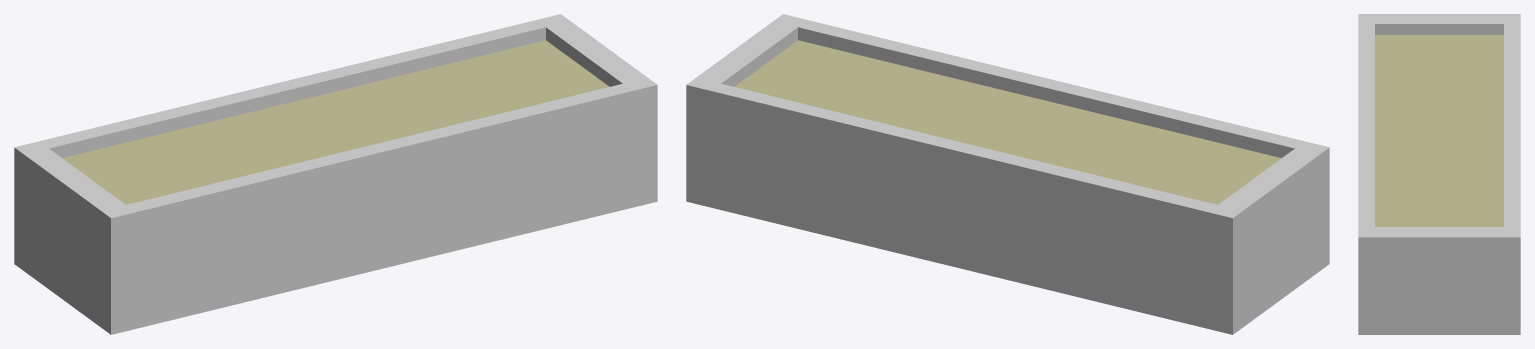
Rendered from Grass_Tub_White_vc.fbx.
The picture shows the model from 3 angles, left to right: view 1: azimuth 30°, elevation 25°; view 2: azimuth 150°, elevation 25°; view 3: azimuth 270°, elevation 25°; orthographic projection. The views are drawn at different scales.
Parts seen in each view (by area): view 1: Grass_Tub_White_vc; view 2: Grass_Tub_White_vc; view 3: Grass_Tub_White_vc.
Part boxes in pixels (x1,y1,x2,y2): Grass_Tub_White_vc: (14,14,657,334); Grass_Tub_White_vc: (686,14,1329,334); Grass_Tub_White_vc: (1358,14,1520,334).
Bounding box in the file's own units: 601 × 123 × 184.
